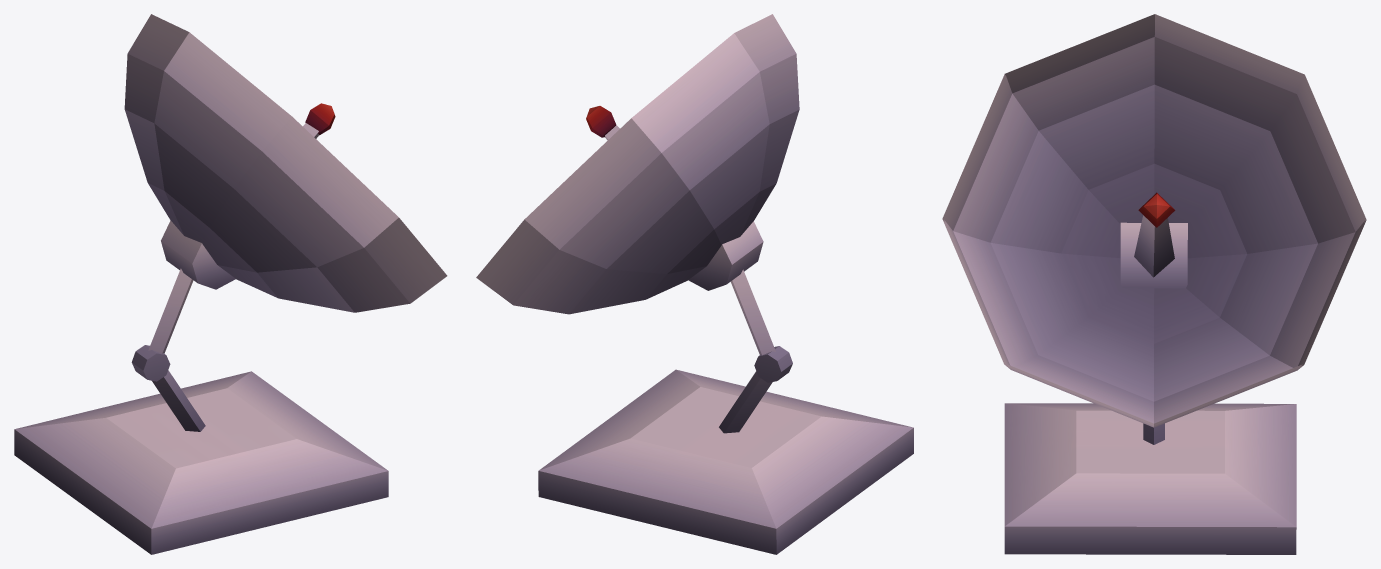
The model's file is Parabollic_Antenna.fbx.
3 renders of one model, left to right at view 1: azimuth 30°, elevation 25°; view 2: azimuth 150°, elevation 25°; view 3: azimuth 270°, elevation 25°, orthographic. The views are drawn at different scales.
Visible parts, largest first — view 1: Parabolic Antenna; view 2: Parabolic Antenna; view 3: Parabolic Antenna.
Boxes of the visible parts, <box> form: Parabolic Antenna: <box>14,14,447,554</box>; Parabolic Antenna: <box>476,14,913,554</box>; Parabolic Antenna: <box>942,14,1366,554</box>.
Bounding box in the file's own units: 81.98 × 106 × 86.26.
